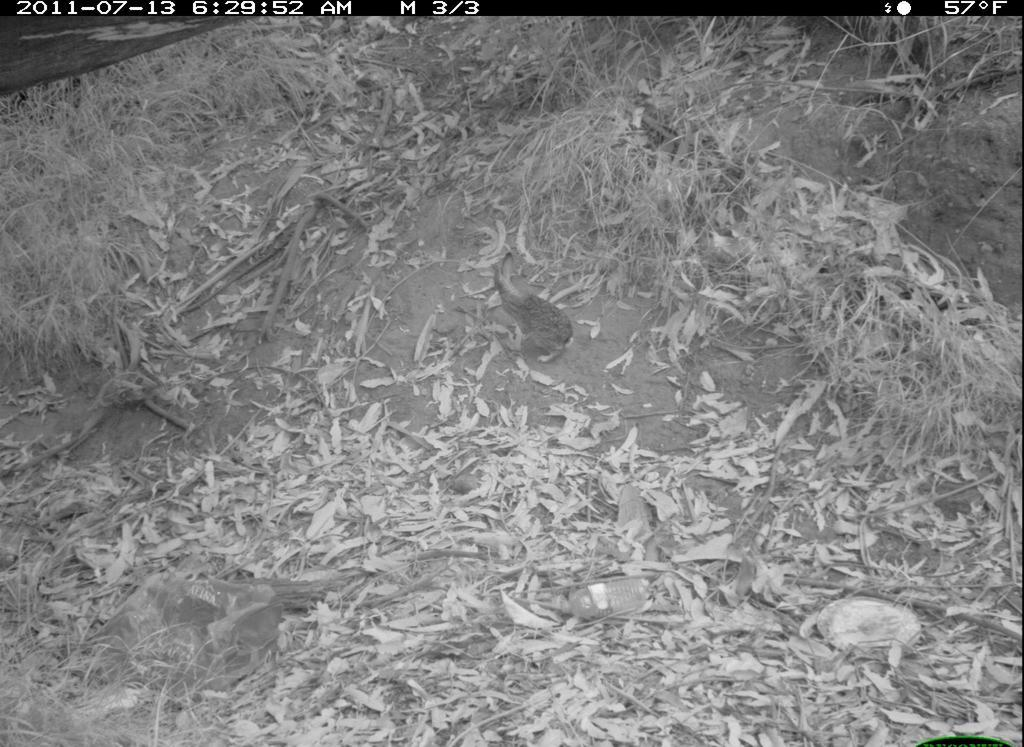rabbit: (484, 253, 584, 367)
